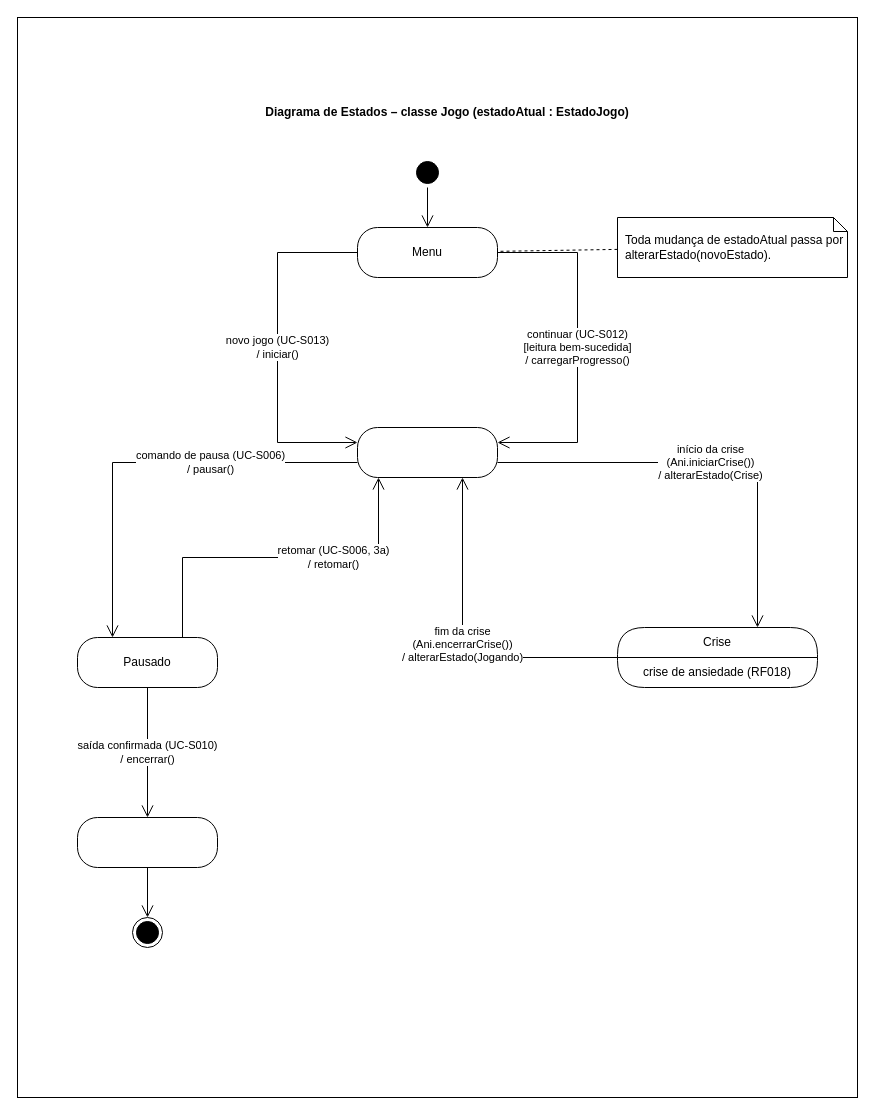
Image size: 895x1115. Some labels were removed from this diagram. Each missing label, with the centre of its shape:
"Encerrado" belongs at pixel 147 842.
"Jogando" belongs at pixel 427 452.
